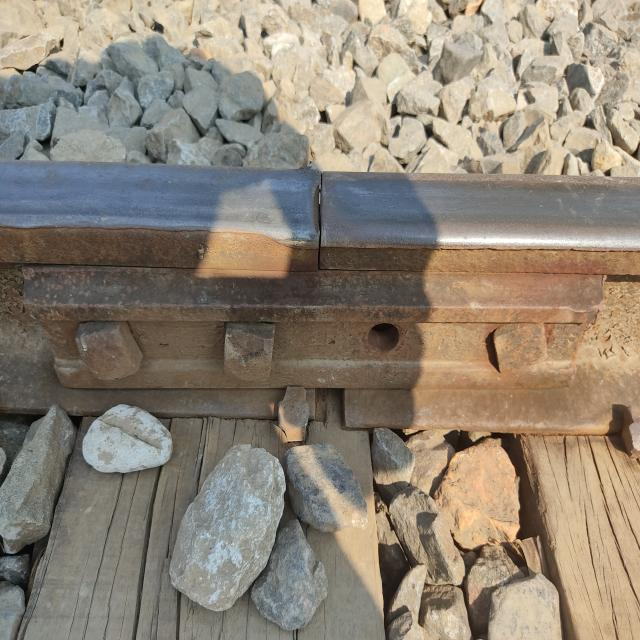non-defective: (206, 128, 522, 434)
